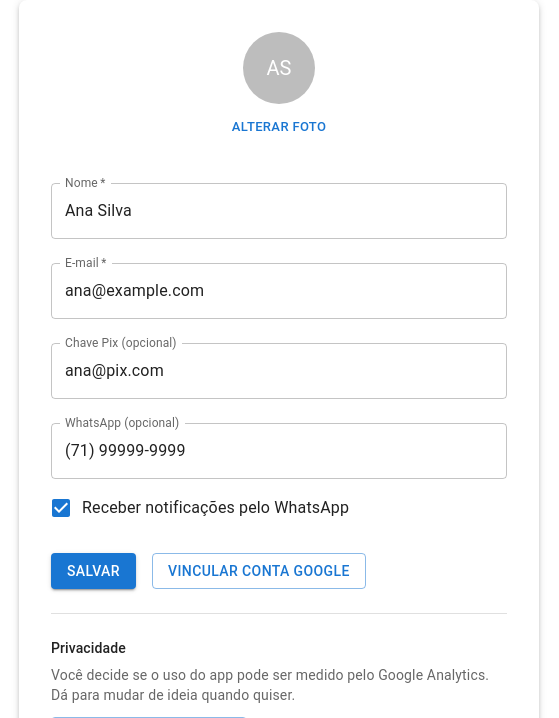
Profile › submits the updated fields to PUT /api/user/profile and shows a success message
Step 1. Replace the text in the field labelled "Nome *" with "Ana Souza" → (279, 211), box top-left (51, 183), bottom-right (507, 239)
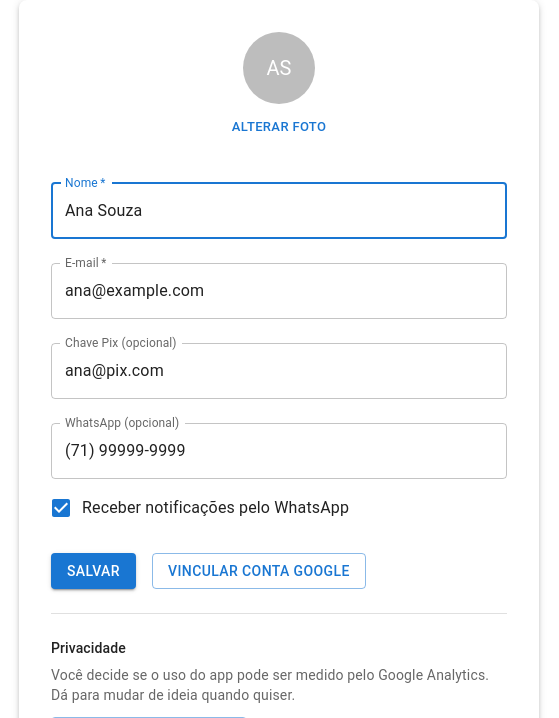
Step 2. Click the button "Salvar" → (94, 571), box top-left (51, 553), bottom-right (136, 589)
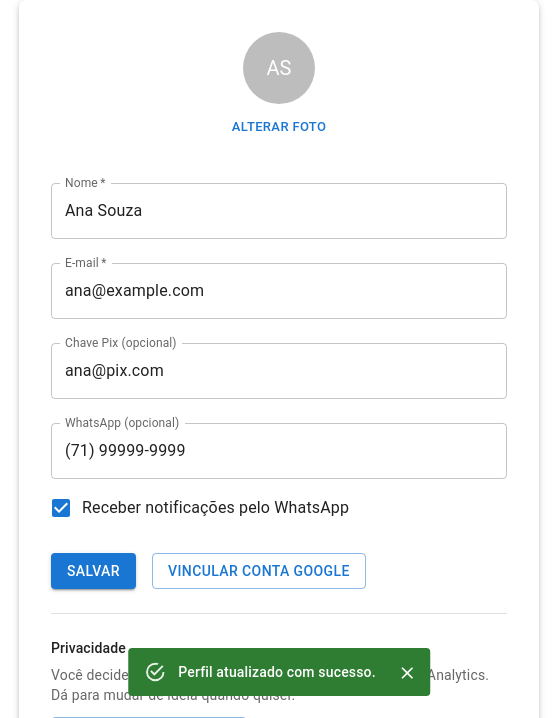
Expected: the text "Perfil atualizado com sucesso." is shown, top-left (178, 664), bottom-right (376, 680)
